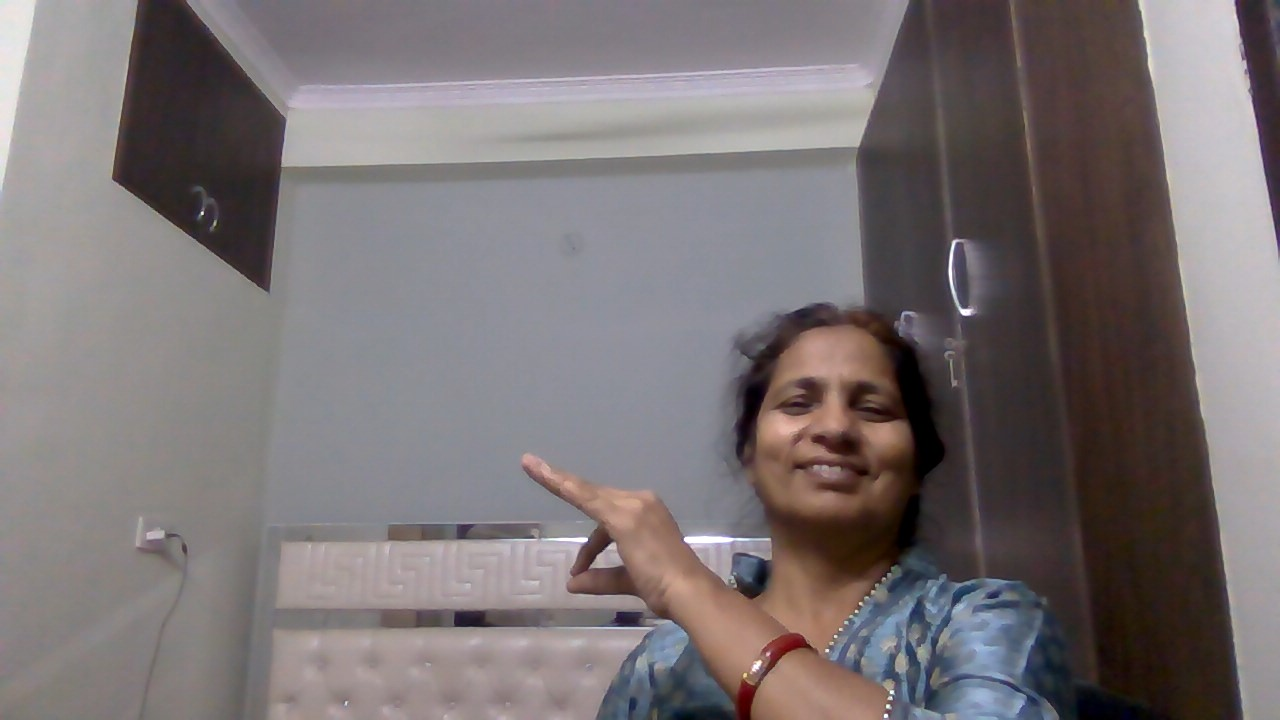Copy: (511, 440, 723, 636)
